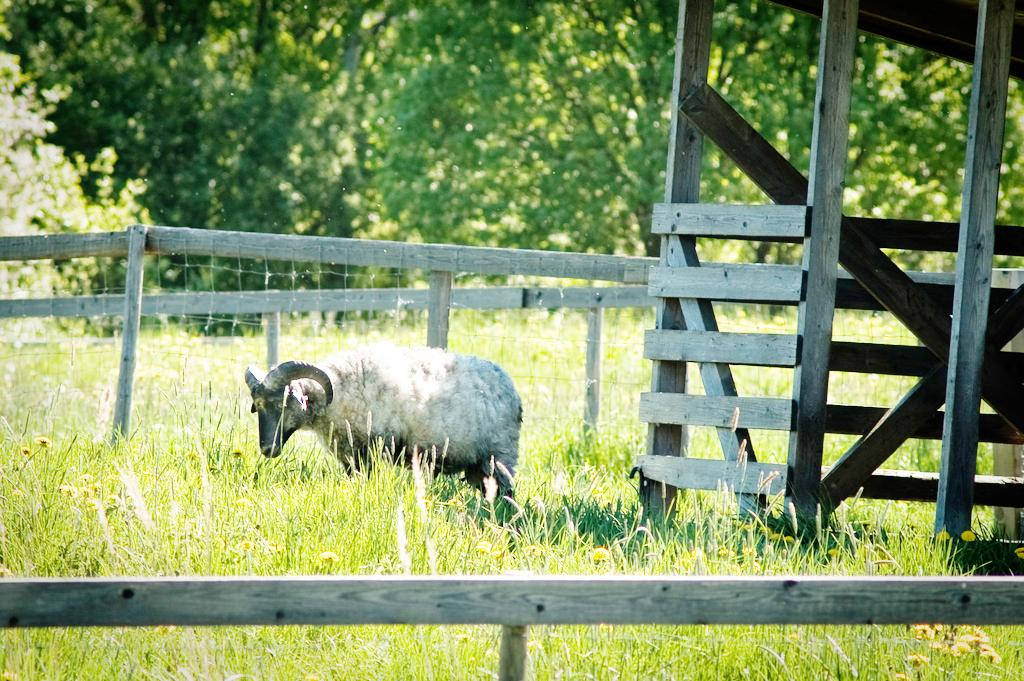Sheep: (242, 339, 524, 520)
